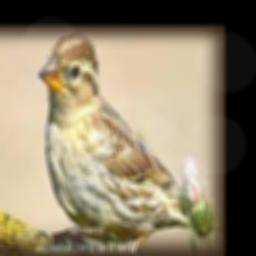Sparrow: (38, 34, 202, 246)
